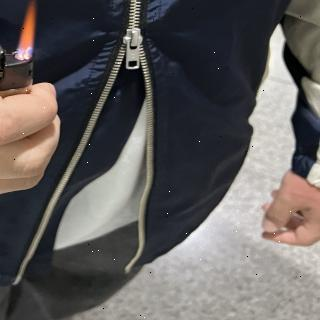fire: (12, 0, 39, 53)
